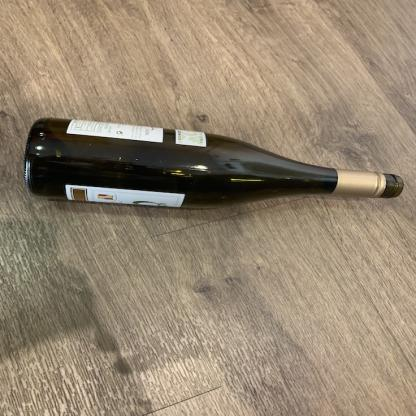trash: (23, 114, 404, 212)
